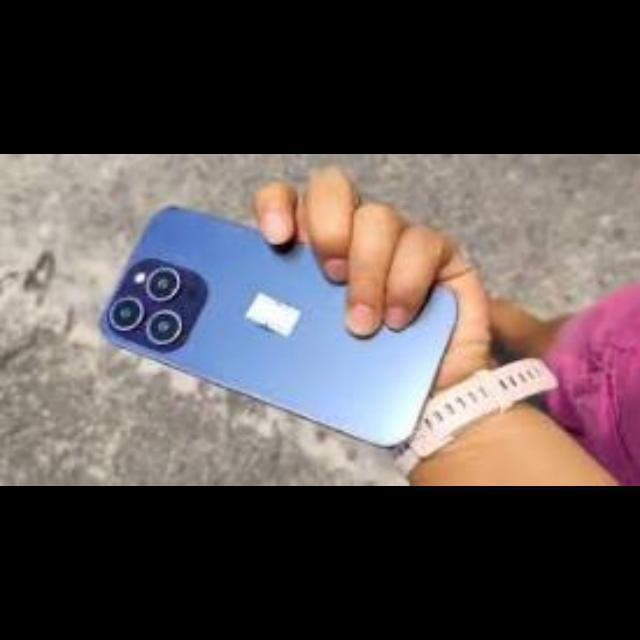phone: (92, 175, 457, 458)
